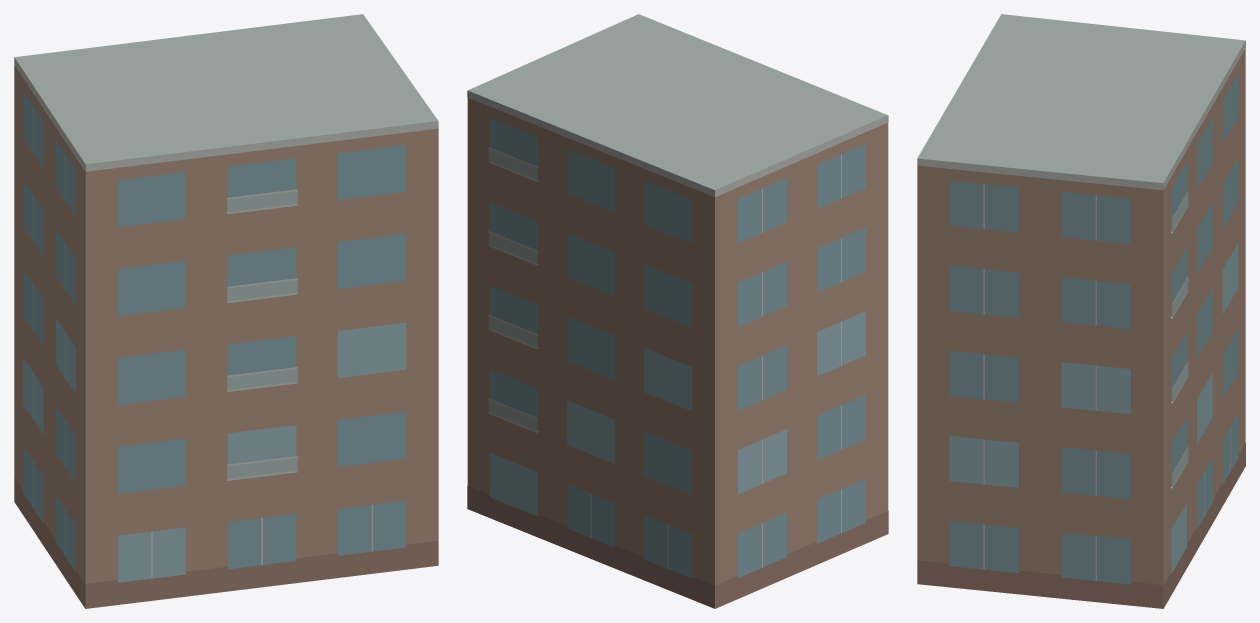
Rendered from survey-upis-33027104.glb.
3 views of the same model, side by side, from view 1: azimuth 30°, elevation 25°; view 2: azimuth 150°, elevation 25°; view 3: azimuth 270°, elevation 25° (orthographic). The views are drawn at different scales.
Visible parts, largest first — view 1: survey-upis-33027104.tmp; view 2: survey-upis-33027104.tmp; view 3: survey-upis-33027104.tmp.
Boxes of the visible parts, <box> form: survey-upis-33027104.tmp: <box>14,14,438,608</box>; survey-upis-33027104.tmp: <box>467,14,888,608</box>; survey-upis-33027104.tmp: <box>917,14,1245,608</box>.
Bounding box in the file's own units: 12.46 × 14.6 × 10.23.
